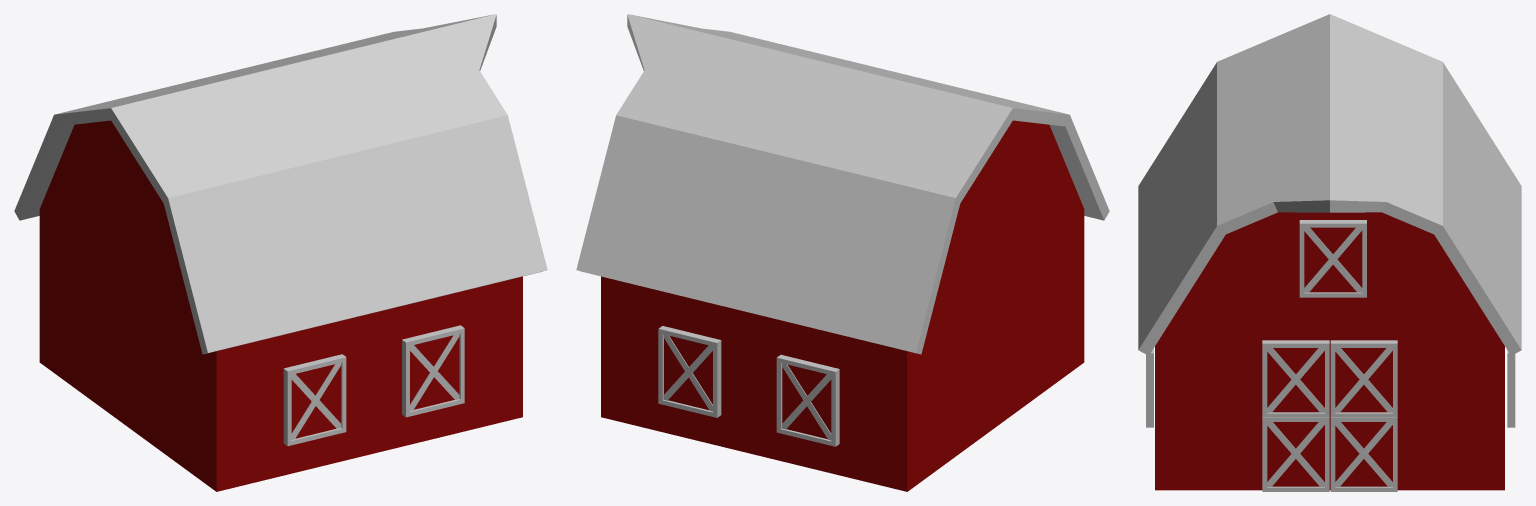
The model's file is barn.fbx.
3 renders of one model, left to right at view 1: azimuth 30°, elevation 25°; view 2: azimuth 150°, elevation 25°; view 3: azimuth 270°, elevation 25°, orthographic.
Parts seen in each view (by area): view 1: barn, doorframe7, doorframe8, doorframe_door_support2 (×2); view 2: barn, doorframe6, doorframe5, doorframe_door_support2 (×2); view 3: barn, doorframe2, doorframe3, doorframe4, doorframe, doorframe1, doorframe4_door_support, doorframe1_door_support2, doorframe_door_support2, doorframe3_door_support, doorframe2_door_support, doorframe5 (+1 smaller).
Boxes of the visible parts, x1,y1,x2,y2 form: barn: (14, 14, 547, 491); doorframe7: (283, 354, 346, 446); doorframe8: (402, 325, 464, 417); doorframe_door_support2 (×2): (291, 334, 459, 439); barn: (576, 14, 1109, 491); doorframe6: (776, 354, 839, 446); doorframe5: (658, 326, 721, 417); doorframe_door_support2 (×2): (663, 334, 831, 440); barn: (1138, 14, 1521, 490); doorframe2: (1330, 340, 1397, 417); doorframe3: (1262, 340, 1329, 417); doorframe4: (1299, 220, 1366, 297); doorframe: (1262, 417, 1329, 491); doorframe1: (1330, 417, 1397, 491); doorframe4_door_support: (1304, 227, 1362, 292); doorframe1_door_support2: (1335, 422, 1392, 486); doorframe_door_support2: (1267, 422, 1324, 486); doorframe3_door_support: (1267, 348, 1324, 412); doorframe2_door_support: (1335, 348, 1392, 412); doorframe5: (1507, 350, 1515, 427).
Bounding box in the file's own units: 1636 × 1310 × 1423.
